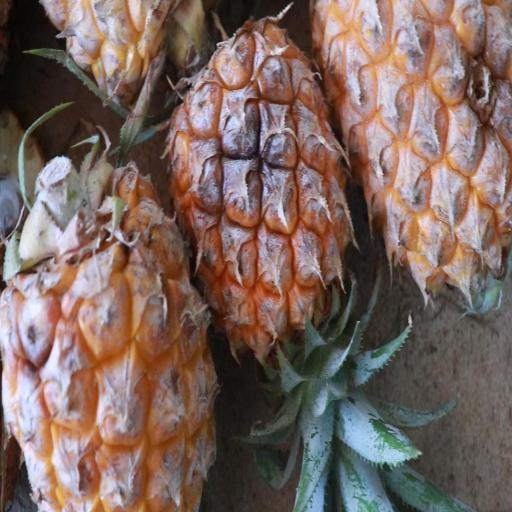Pineapple - v8 v1: (169, 10, 358, 424), (0, 157, 217, 512), (308, 0, 512, 298)
